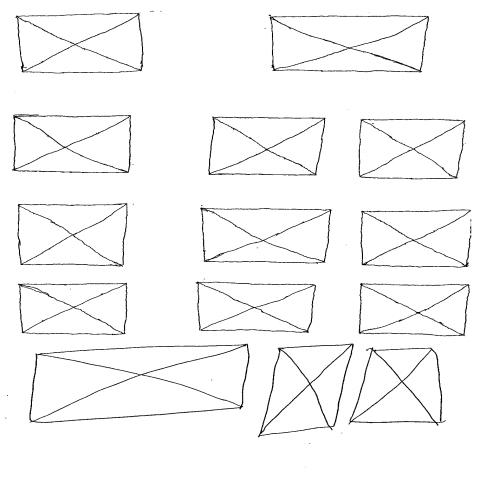Image: (29, 344, 252, 424), (269, 13, 431, 74), (256, 344, 354, 439), (16, 13, 146, 76), (201, 206, 333, 266), (12, 114, 135, 176), (15, 203, 131, 267), (208, 117, 327, 178), (350, 349, 444, 426), (360, 209, 476, 269), (356, 119, 466, 181), (358, 282, 474, 339), (196, 281, 317, 333), (17, 282, 130, 336)
